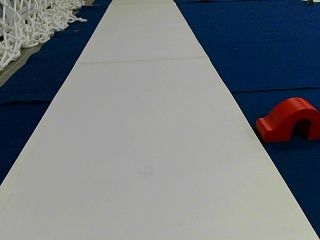bridge: (256, 98, 319, 140)
